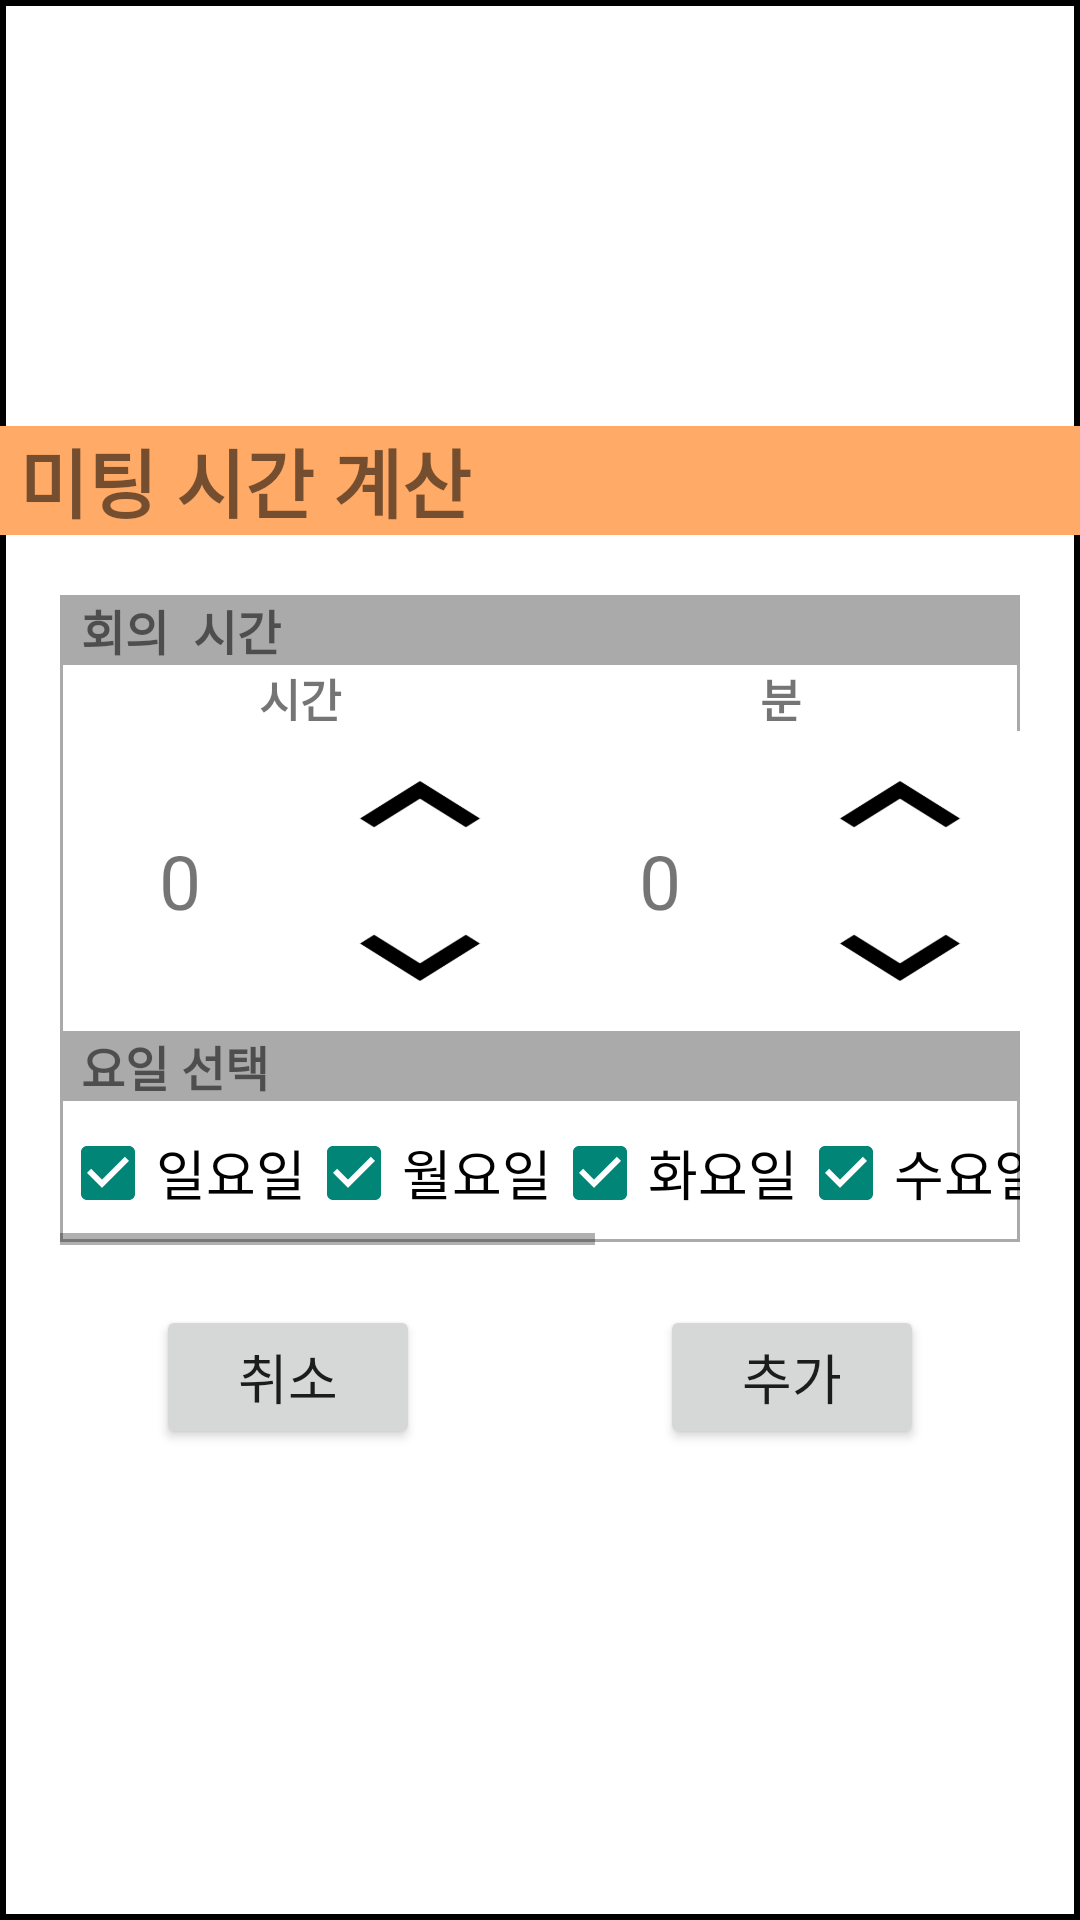

Icon bounding boxes for this 1080*1920 phone screenshot, format (x1, y1, x2, y2):
down: (360, 934, 480, 981), (840, 934, 960, 981)
